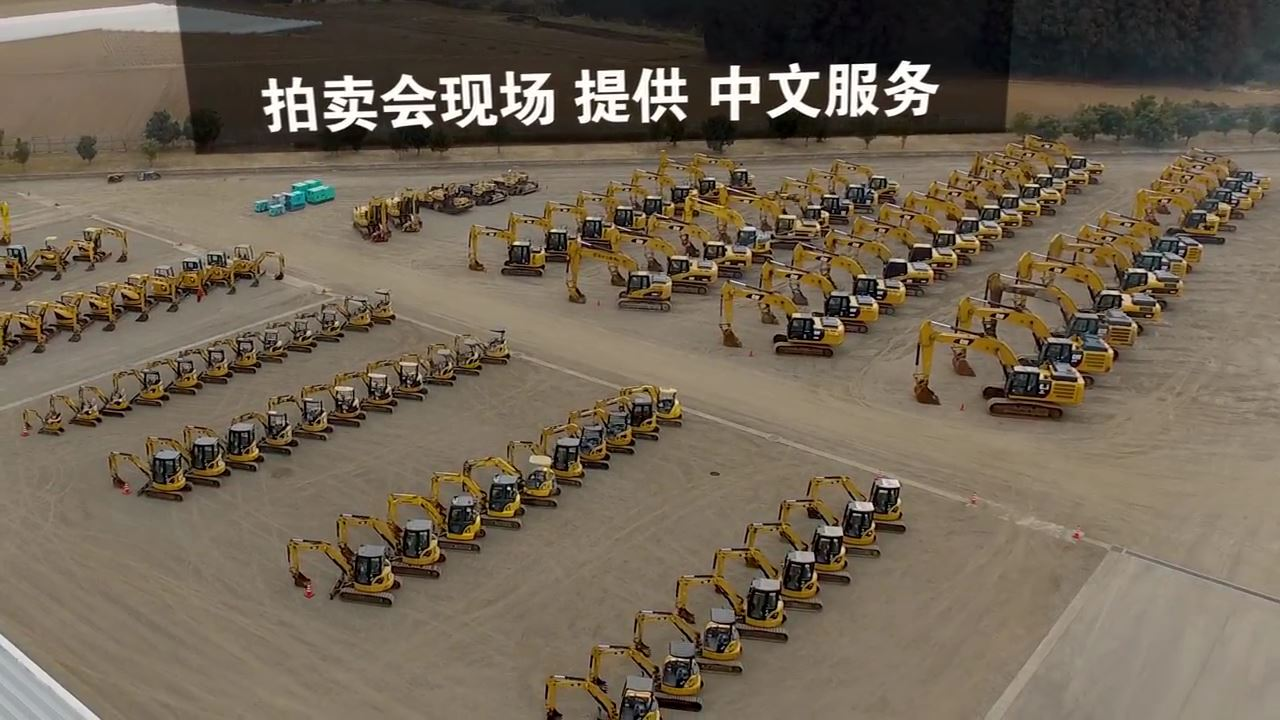con_eq: (910, 328, 1083, 426), (964, 293, 1114, 382), (988, 269, 1141, 354), (720, 276, 847, 366), (280, 535, 412, 616), (556, 239, 681, 324), (1049, 227, 1180, 307), (633, 607, 751, 687), (753, 260, 874, 338), (1020, 251, 1154, 319), (677, 569, 794, 643), (817, 229, 939, 299), (587, 642, 707, 713), (741, 518, 859, 590), (338, 512, 444, 590), (784, 241, 903, 308), (603, 225, 725, 289), (867, 192, 976, 263), (680, 194, 783, 269), (536, 665, 675, 720), (643, 209, 746, 283), (717, 545, 830, 612), (1095, 204, 1203, 270), (374, 490, 482, 555), (808, 465, 905, 536), (429, 470, 527, 537), (783, 498, 884, 561), (96, 446, 199, 507), (850, 219, 956, 278), (1076, 224, 1194, 275), (464, 453, 564, 513), (456, 222, 551, 280), (717, 183, 796, 252), (143, 437, 240, 485), (504, 434, 584, 492), (300, 372, 368, 435), (501, 213, 581, 266), (1135, 189, 1217, 239), (534, 198, 603, 254), (576, 403, 645, 459), (547, 419, 618, 472), (575, 193, 646, 244), (179, 429, 260, 472), (267, 390, 334, 441), (633, 376, 691, 434), (230, 410, 298, 458), (342, 359, 406, 409), (607, 391, 663, 447), (374, 354, 434, 405), (77, 378, 141, 420), (22, 301, 86, 343), (230, 238, 284, 286), (41, 392, 103, 432), (147, 356, 199, 401), (407, 343, 457, 389), (80, 224, 130, 270), (457, 325, 510, 368), (181, 347, 235, 388), (31, 238, 91, 274), (410, 186, 470, 221), (117, 271, 155, 326), (198, 251, 239, 301), (442, 333, 485, 380), (274, 318, 323, 359), (115, 371, 166, 409), (348, 198, 391, 242), (214, 338, 262, 377), (55, 294, 108, 328), (380, 193, 418, 239), (331, 295, 371, 338), (305, 306, 344, 350), (492, 163, 538, 200), (148, 264, 181, 315), (93, 279, 126, 327), (17, 408, 63, 440), (445, 179, 505, 203), (181, 262, 213, 306), (363, 291, 395, 330), (10, 238, 38, 281), (252, 329, 290, 360)
